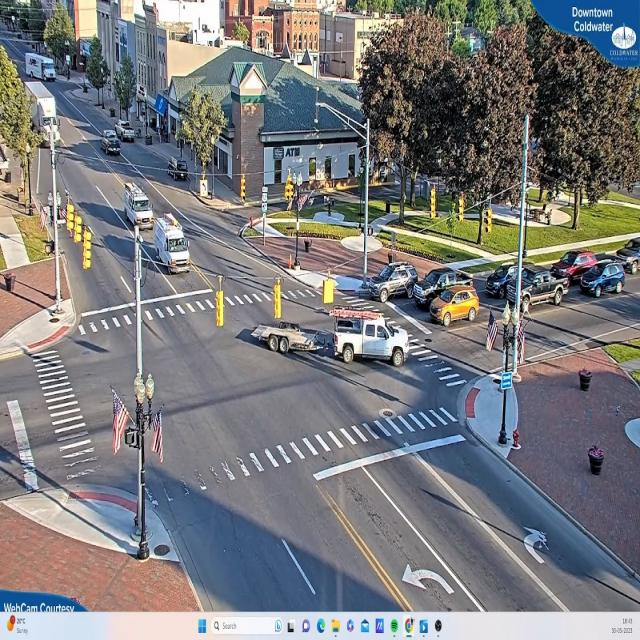car: (334, 311, 411, 365), (488, 267, 570, 309), (411, 266, 476, 308), (154, 218, 195, 276), (369, 265, 418, 304), (431, 290, 480, 326), (580, 264, 628, 298), (120, 185, 152, 228), (551, 252, 600, 280)
